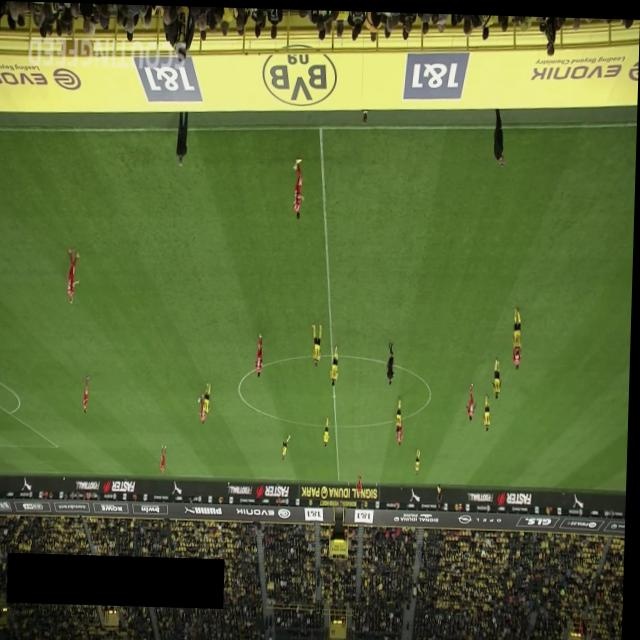player: (292, 155, 306, 217), (67, 246, 81, 303), (491, 354, 504, 396), (513, 302, 524, 350), (311, 320, 323, 364), (467, 379, 479, 417), (255, 330, 264, 376), (331, 342, 340, 384), (484, 390, 493, 429), (203, 380, 212, 415), (84, 374, 92, 412), (397, 393, 405, 429), (199, 393, 208, 423), (283, 432, 293, 458), (397, 416, 406, 443), (513, 342, 523, 366), (325, 414, 332, 444), (162, 442, 169, 472), (358, 469, 364, 493), (417, 446, 422, 472)
referee: (387, 339, 396, 383), (437, 479, 445, 505)
